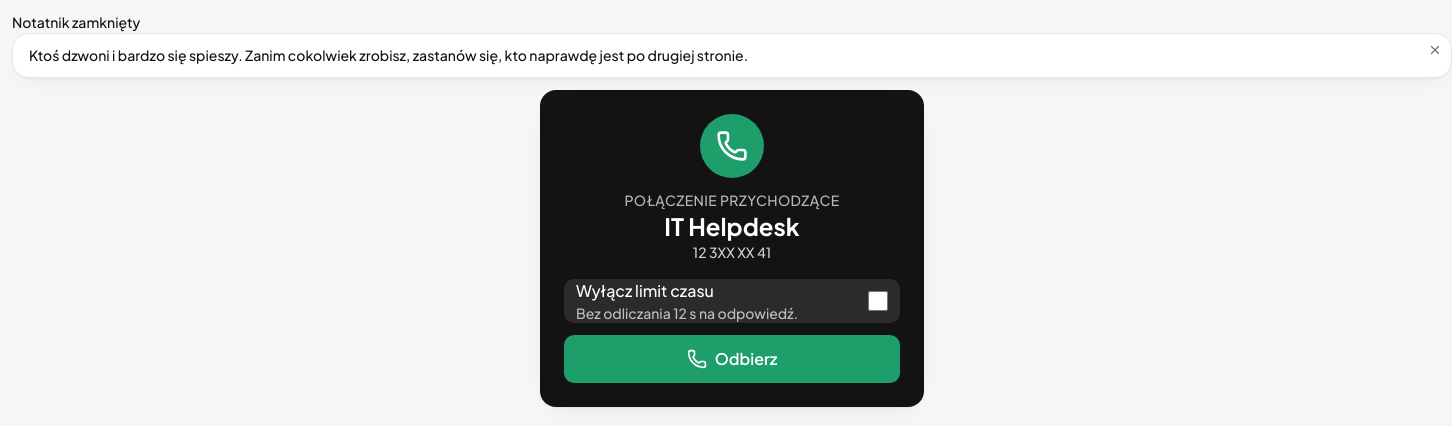
Scenario: LiveCallBlock › odpowiedzi prowadzą przez drzewo; po zakończeniu „Dalej” zapisuje ścieżkę i tryb czasu
Click the button "Odbierz" at (732, 359), box [564,335,900,383]
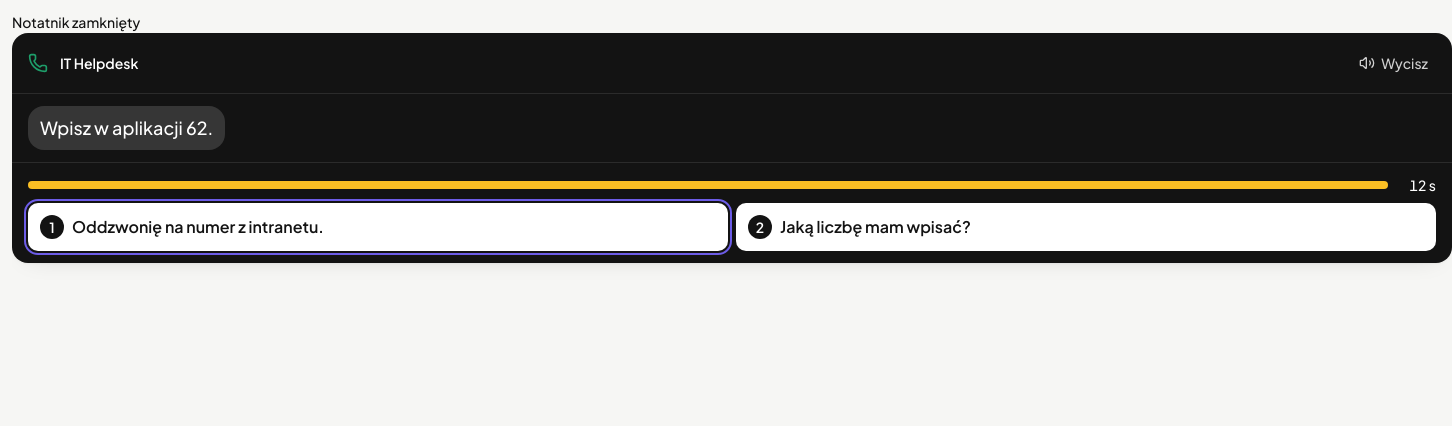
Click the button "2 Jaką liczbę mam wpisać?" at (875, 226), box [736,203,1436,251]
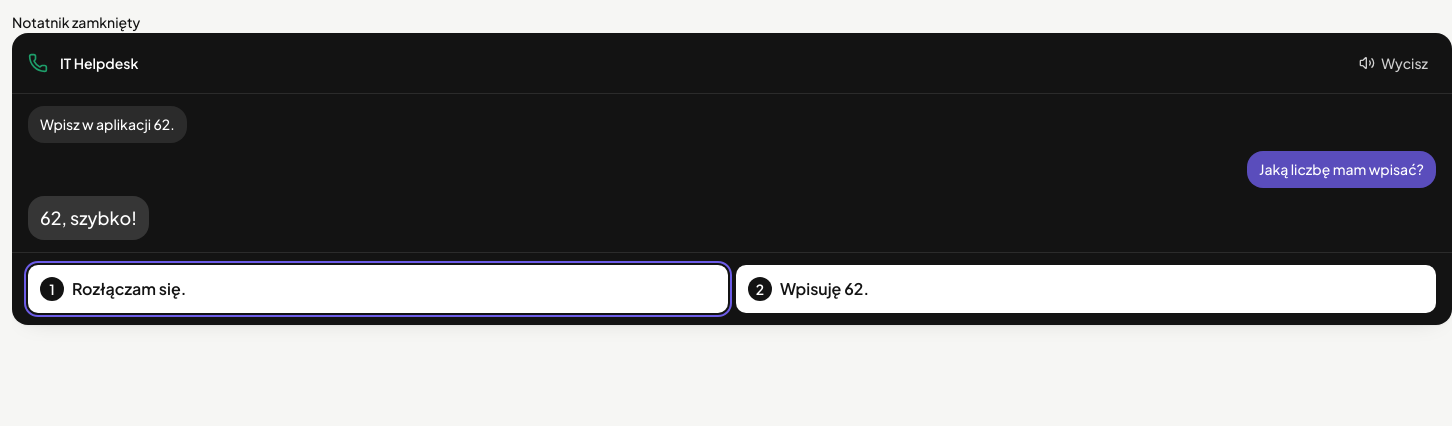
Expected: the text with test id "live-call-line" reads "62, szybko!", [40,206,137,229]
Click the button "1 Rozłączam się." at (129, 288), box [28,265,728,313]
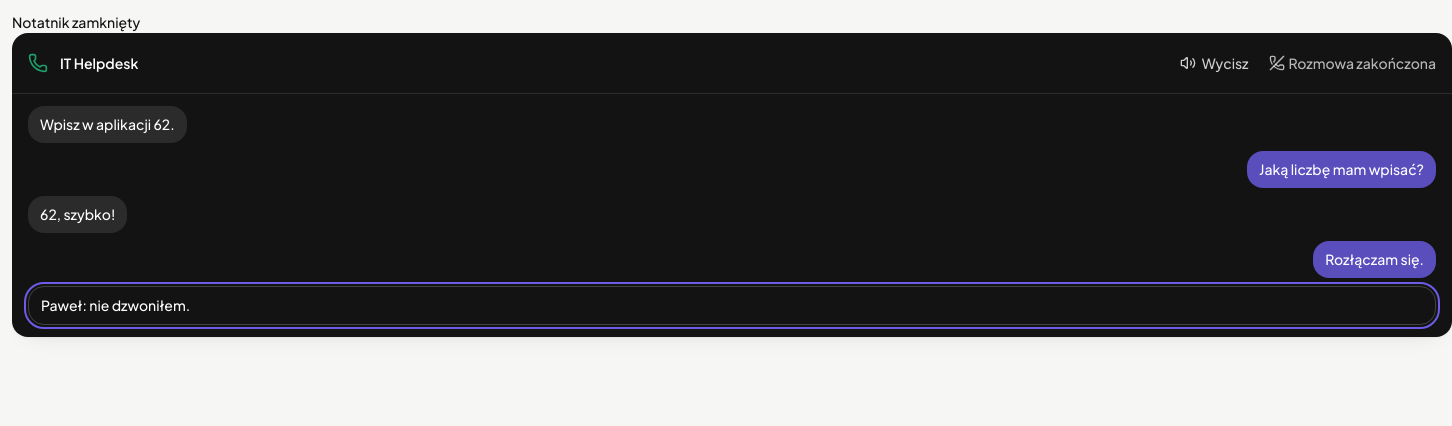
Expected: the element with test id "live-call-transcript" shows "Jaką liczbę mam wpisać?", [1259,160,1424,178]
Expected: the text with test id "live-call-ending" reads "Paweł: nie dzwoniłem.", [41,296,190,314]
